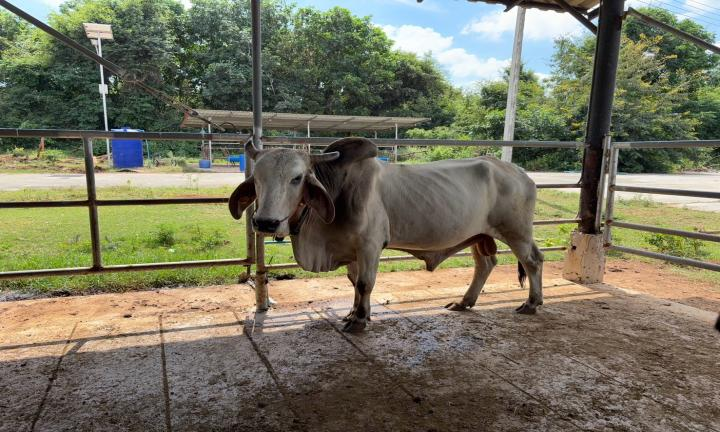Brahman: (229, 137, 543, 331)
